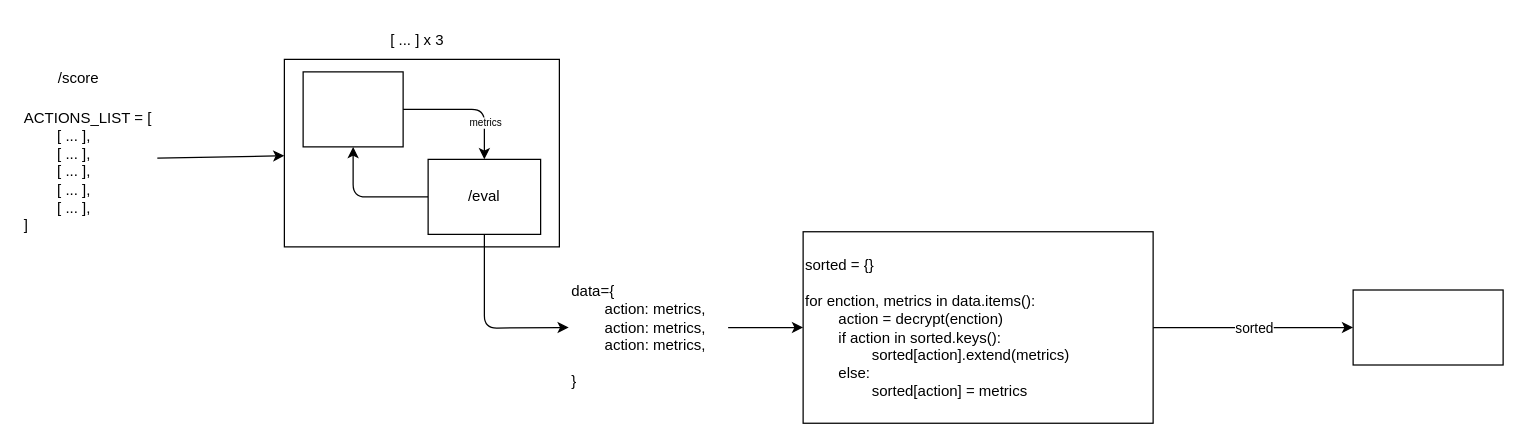
This 1525x445 diagram has some shape labels left out. The shapes that lost their labels are listed below. From the top down, each one's centre as x and y in pixels, then its label:
At [352,109]: "bot".
At [1427,327]: "scoring".
